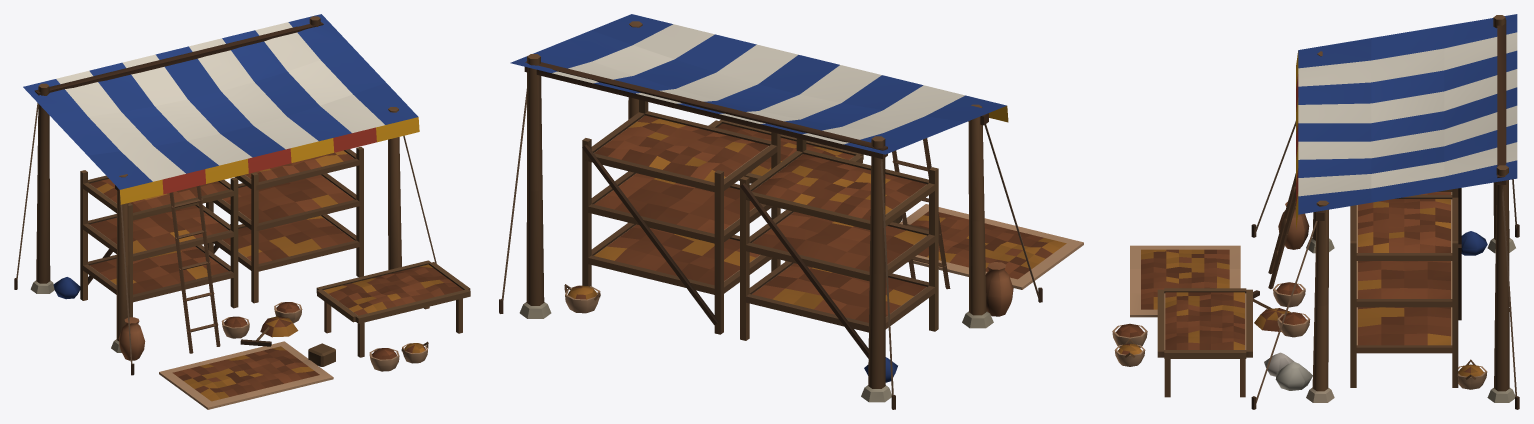
File: sechoir.glb
The picture shows the model from 3 angles, left to right: view 1: azimuth 30°, elevation 25°; view 2: azimuth 150°, elevation 25°; view 3: azimuth 270°, elevation 25°; orthographic projection. The views are drawn at different scales.
Parts seen in each view (by area): view 1: sechoir; view 2: sechoir; view 3: sechoir.
Boxes of the visible parts, x1,y1,x2,y2 form: sechoir: (14,14,470,409); sechoir: (499,14,1083,409); sechoir: (1112,14,1519,409).
Bounding box in the file's own units: 1.86 × 1.15 × 1.84.
